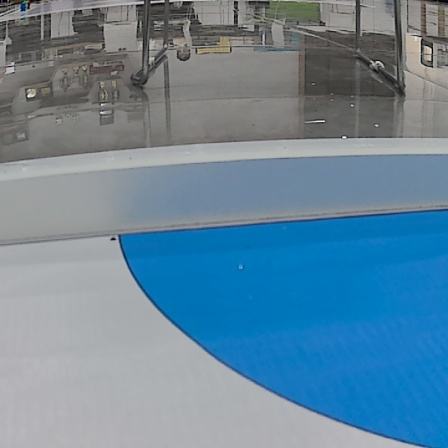blue_base: (116, 209, 448, 448)
